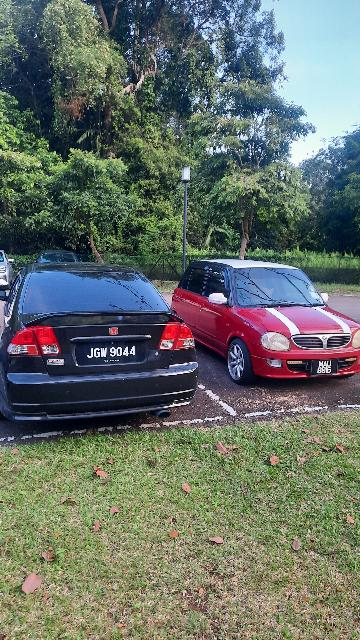License_Plate: (77, 338, 148, 365), (312, 358, 341, 378)
car: (2, 260, 209, 425), (171, 256, 360, 385)
